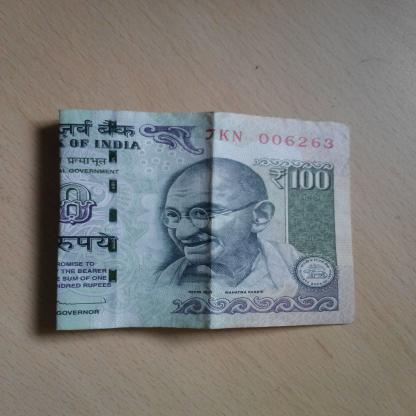Old100Front: (55, 108, 355, 330)
